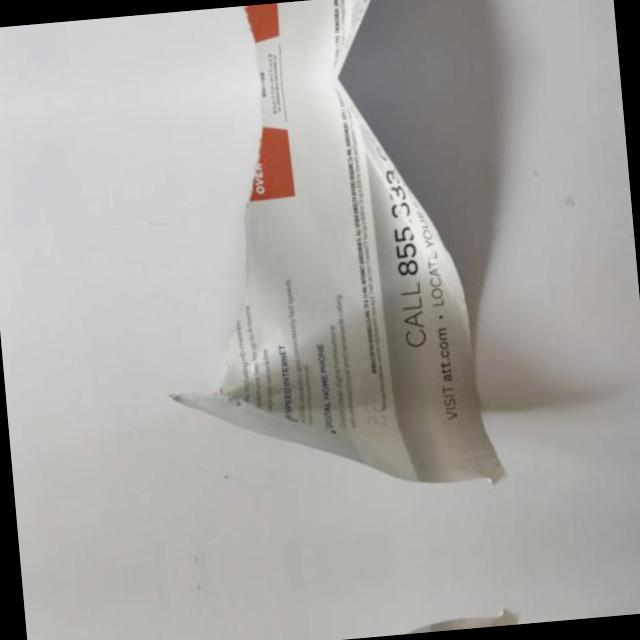paper: (114, 58, 576, 544), (108, 0, 537, 96), (159, 568, 586, 640)
